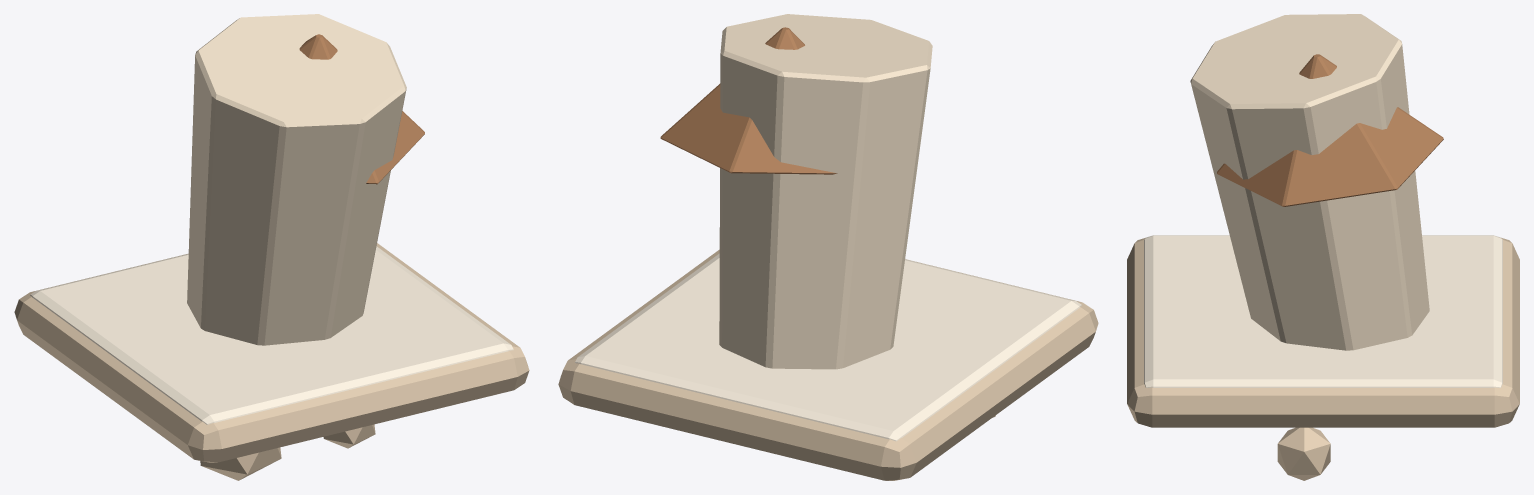
File: island_hallucination.glb
The picture shows the model from 3 angles, left to right: view 1: azimuth 30°, elevation 25°; view 2: azimuth 150°, elevation 25°; view 3: azimuth 270°, elevation 25°; orthographic projection. The views are drawn at different scales.
Visible parts, largest first — view 1: island_hallucination; view 2: island_hallucination; view 3: island_hallucination.
Part boxes in pixels (<box>): island_hallucination: <box>14,14,529,480</box>; island_hallucination: <box>558,14,1098,480</box>; island_hallucination: <box>1127,14,1519,480</box>.
Bounding box in the file's own units: 1.56 × 1.82 × 1.56.
